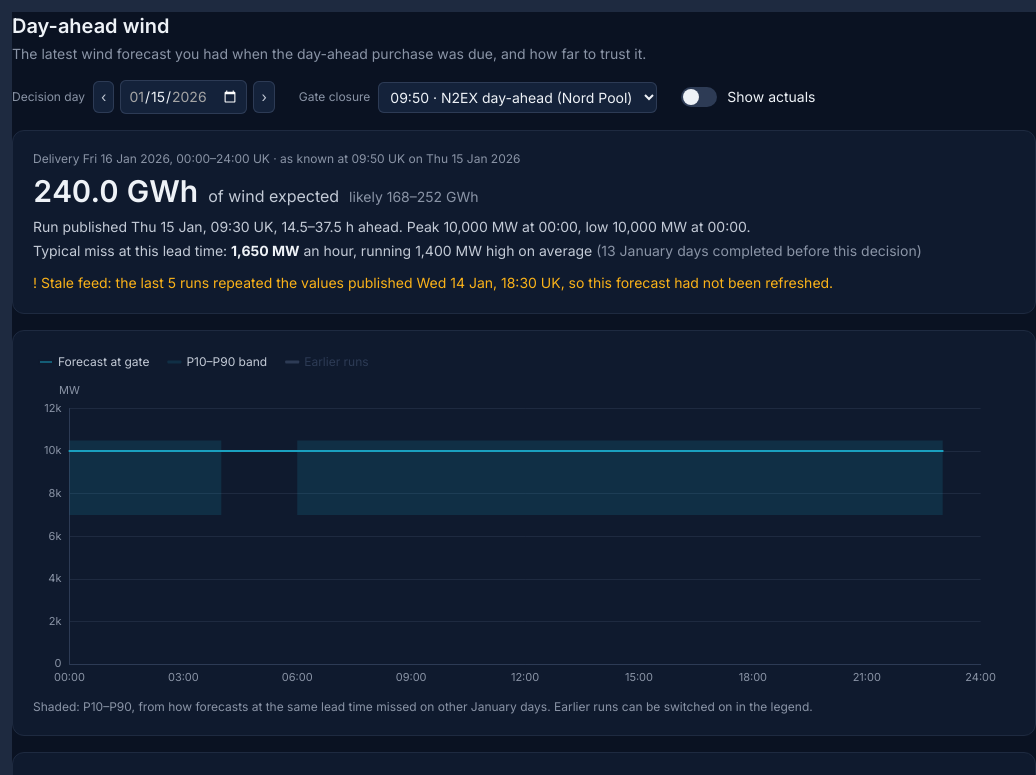
Test: Day-Ahead › switches gate from the selector and offers a custom time
Select "09:20 · EPEX GB hourly auction" in the dropdown labelled "Gate closure": (518, 97) [378, 82, 657, 112]
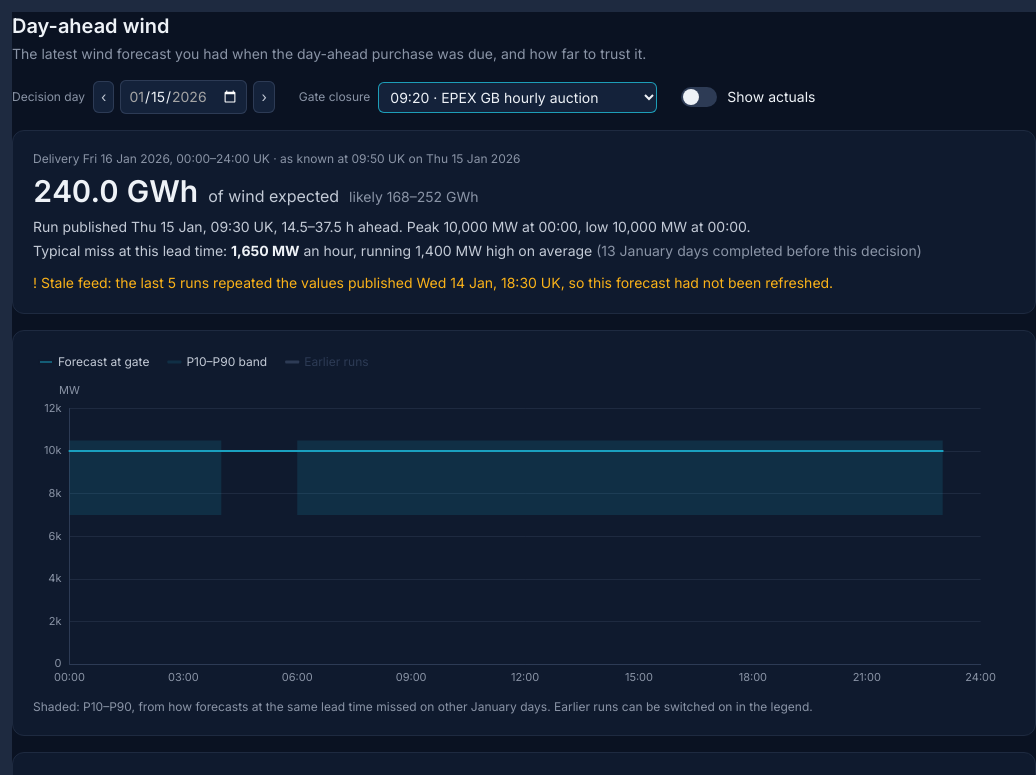
Select "Custom time…" in the dropdown labelled "Gate closure": (518, 97) [378, 82, 657, 112]
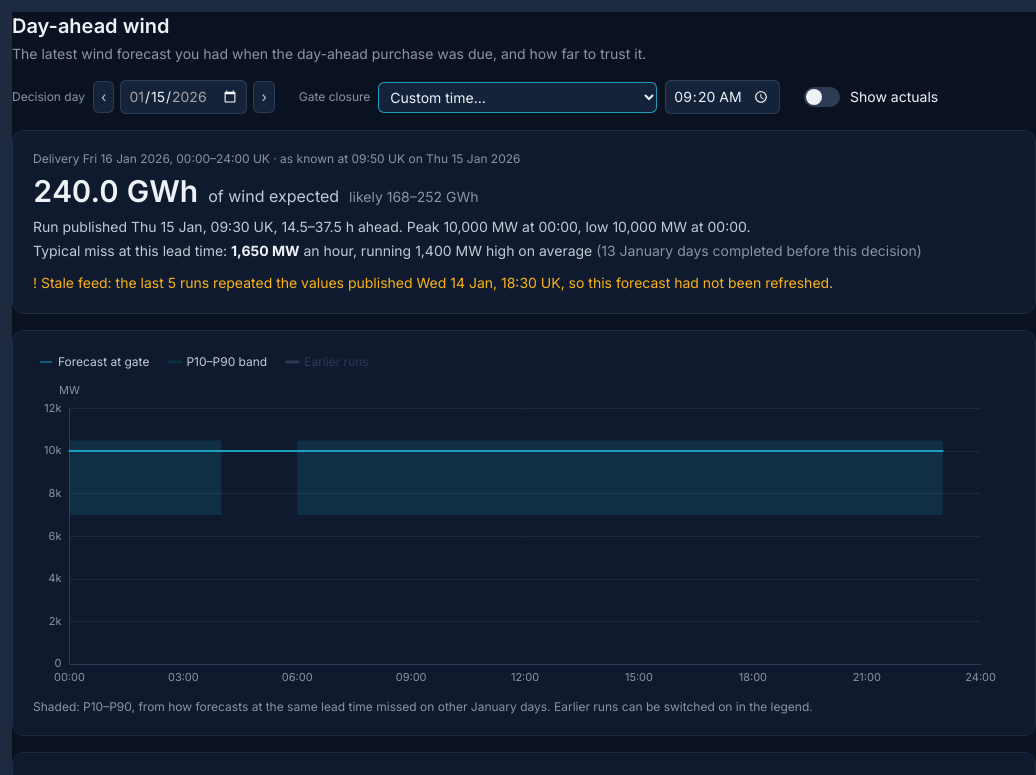
Expected: the time field named "Custom gate closure time, UK" holds "09:20", [665, 80, 780, 114]
